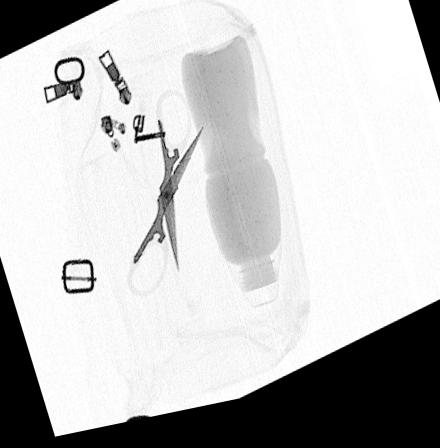Scissors: (125, 95, 206, 307)
